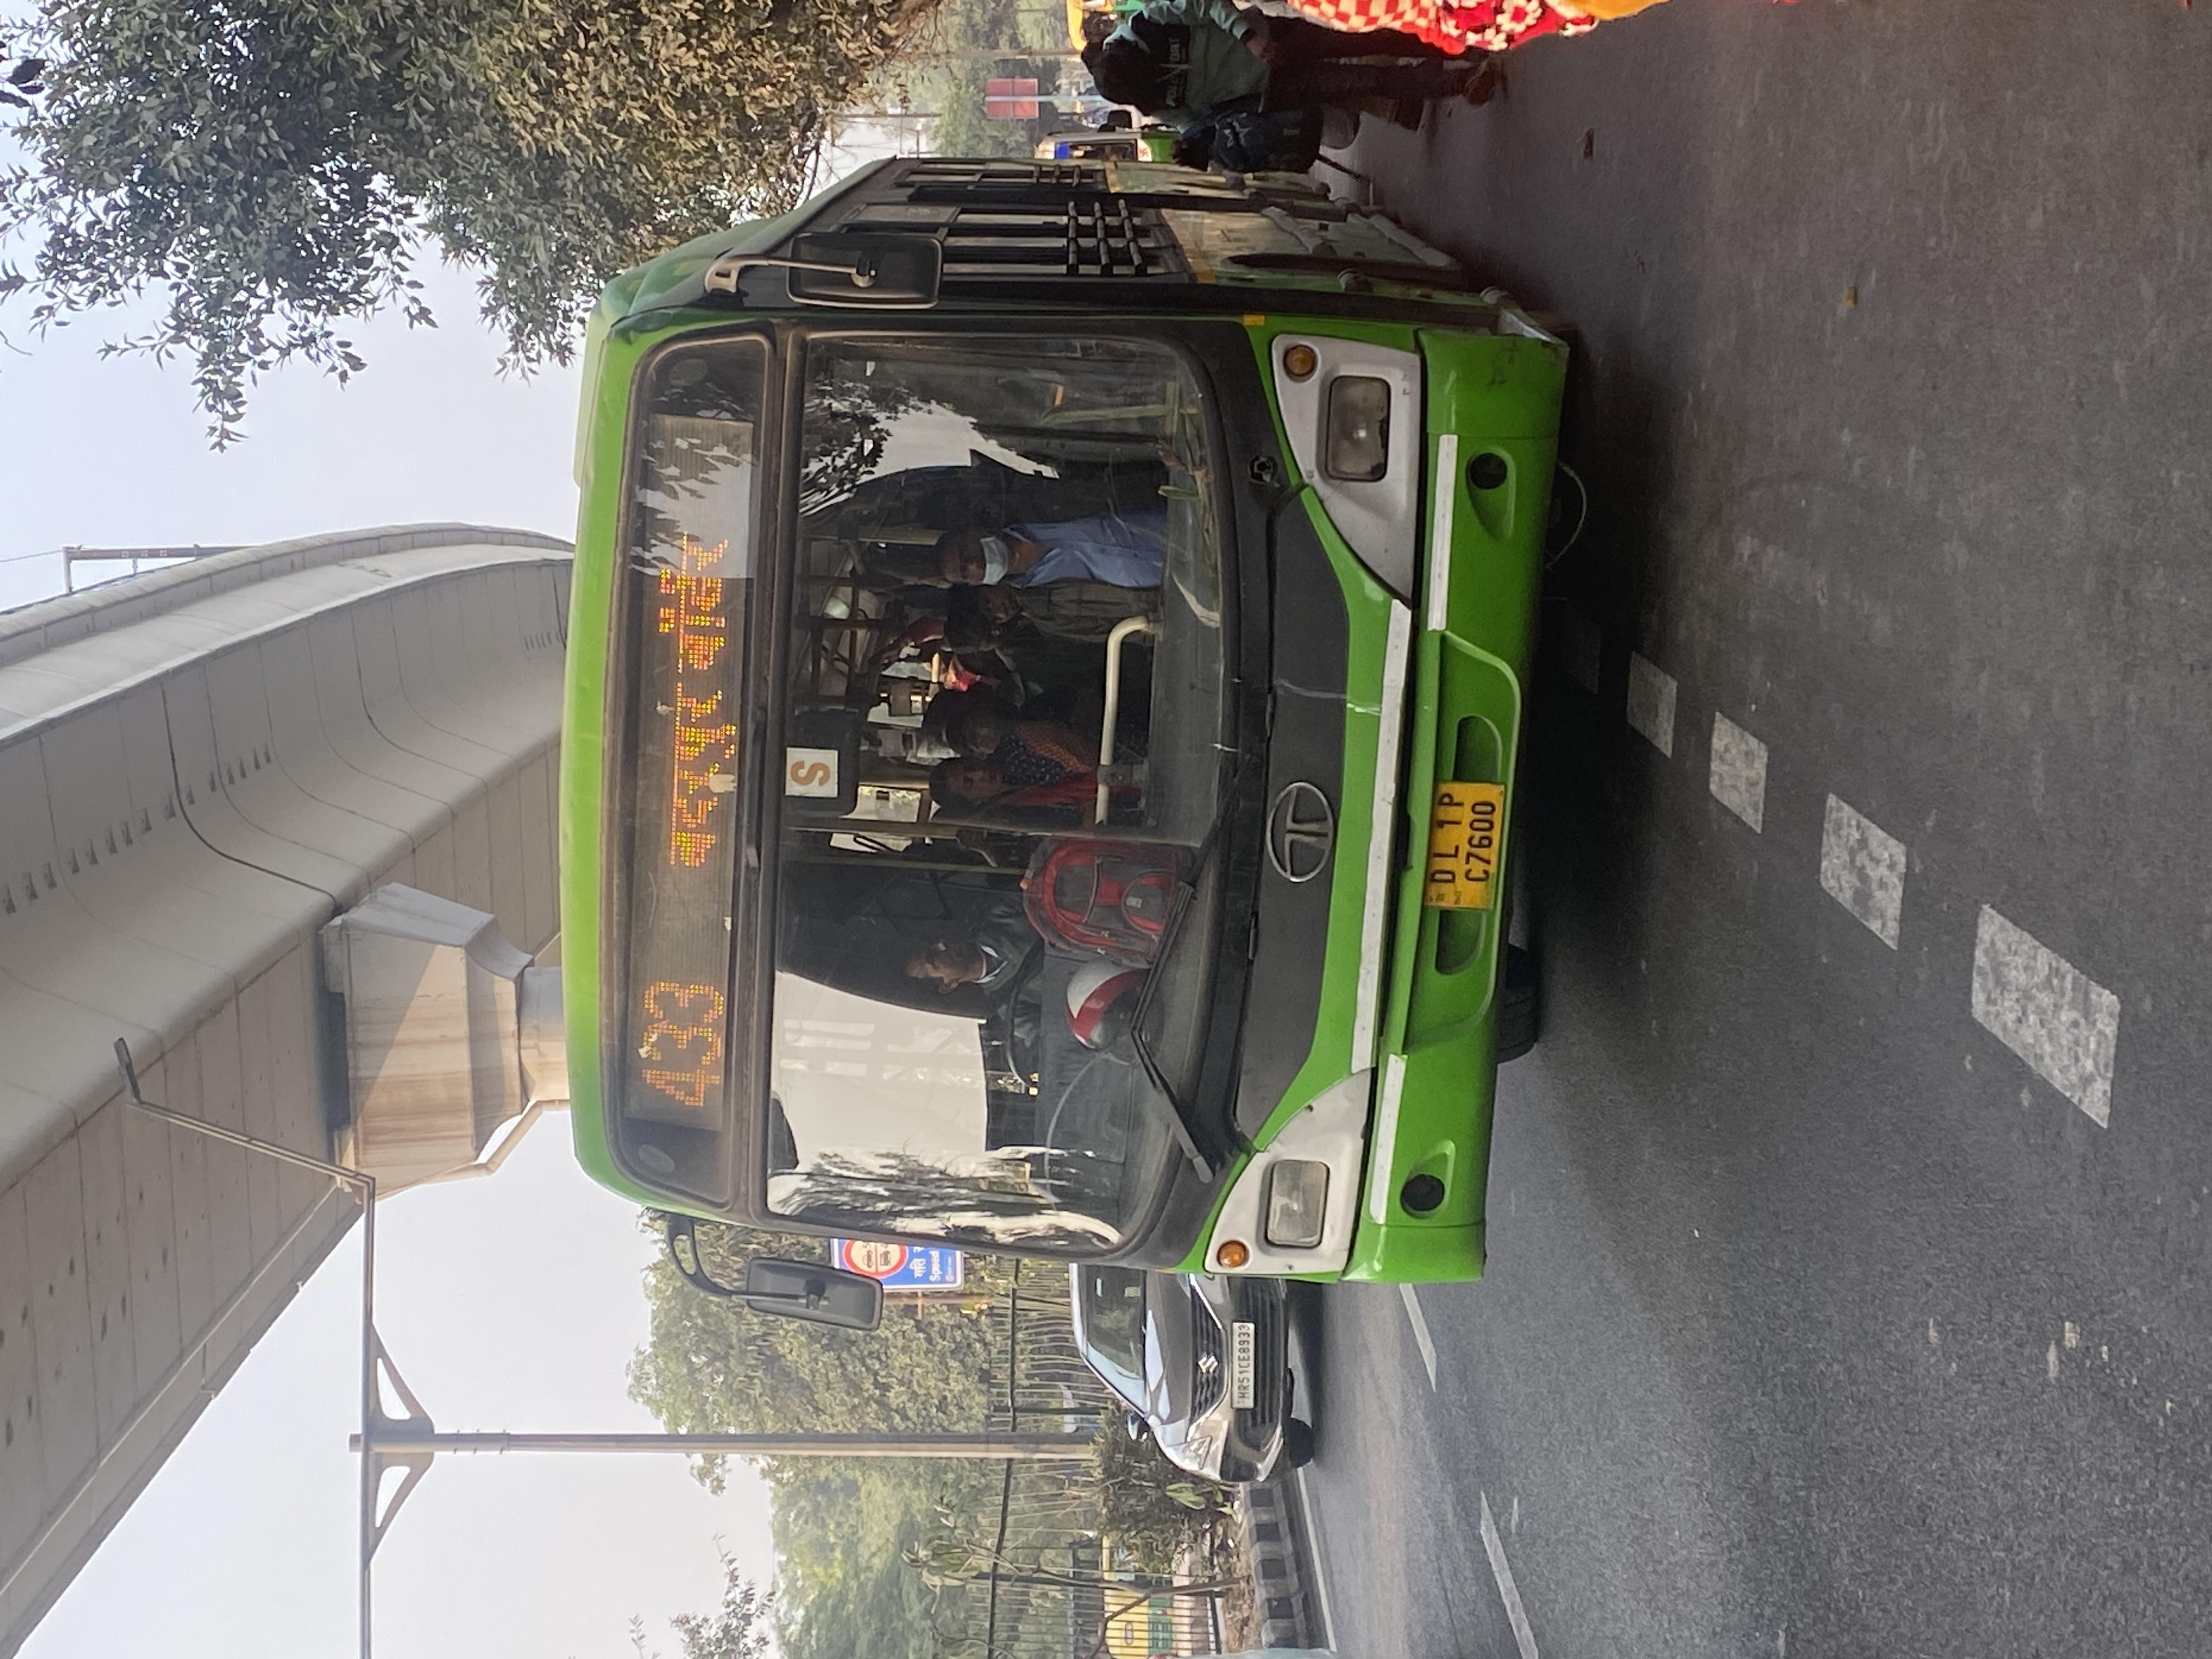Bus: (510, 269, 1575, 1317)
Display Board: (554, 318, 795, 1223)
License Plate: (1404, 746, 1509, 960)
